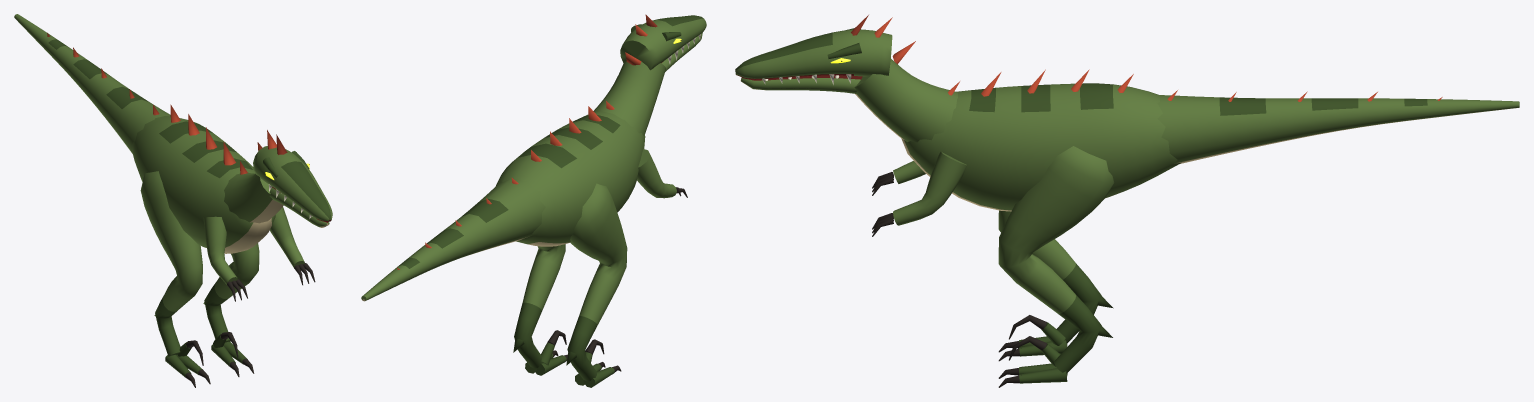
File: raptor.glb
3 renders of one model, left to right at view 1: azimuth 30°, elevation 25°; view 2: azimuth 150°, elevation 25°; view 3: azimuth 270°, elevation 25°, orthographic. The views are drawn at different scales.
Parts seen in each view (by area): view 1: Torso, LegR_Mesh, TailMesh, Skull, Neck, LegL_Mesh, ArmR_Mesh, ArmL_Mesh, JawMesh; view 2: Torso, TailMesh, LegR_Mesh, Neck, LegL_Mesh, Skull, ArmR_Mesh, JawMesh; view 3: Torso, TailMesh, LegL_Mesh, Skull, Neck, LegR_Mesh, ArmL_Mesh, JawMesh.
Part boxes in pixels (x1=…): Torso: x1=132, y1=116, x2=275, y2=253; LegR_Mesh: x1=140, y1=171, x2=202, y2=356; TailMesh: x1=14, y1=14, x2=170, y2=153; Skull: x1=253, y1=146, x2=332, y2=221; Neck: x1=224, y1=172, x2=283, y2=223; LegL_Mesh: x1=204, y1=243, x2=259, y2=342; ArmR_Mesh: x1=203, y1=216, x2=237, y2=284; ArmL_Mesh: x1=269, y1=207, x2=304, y2=267; JawMesh: x1=269, y1=187, x2=329, y2=227; Torso: x1=496, y1=111, x2=645, y2=246; TailMesh: x1=361, y1=177, x2=545, y2=301; LegR_Mesh: x1=567, y1=183, x2=627, y2=381; Neck: x1=593, y1=61, x2=665, y2=135; LegL_Mesh: x1=514, y1=244, x2=565, y2=368; Skull: x1=620, y1=15, x2=706, y2=70; ArmR_Mesh: x1=637, y1=149, x2=676, y2=198; JawMesh: x1=661, y1=32, x2=702, y2=71; Torso: x1=901, y1=83, x2=1181, y2=211; TailMesh: x1=1157, y1=95, x2=1519, y2=163; LegL_Mesh: x1=998, y1=146, x2=1114, y2=373; Skull: x1=735, y1=29, x2=892, y2=79; Neck: x1=854, y1=58, x2=957, y2=142; LegR_Mesh: x1=998, y1=210, x2=1101, y2=343; ArmL_Mesh: x1=893, y1=152, x2=967, y2=225; JawMesh: x1=740, y1=75, x2=862, y2=93.
Bounding box in the file's own units: 0.4581 × 1.34 × 2.67.
